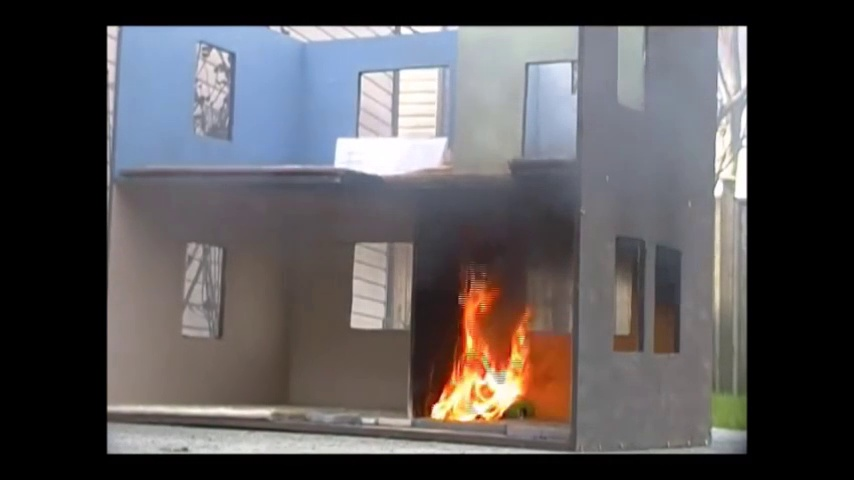fire: (432, 275, 527, 422)
